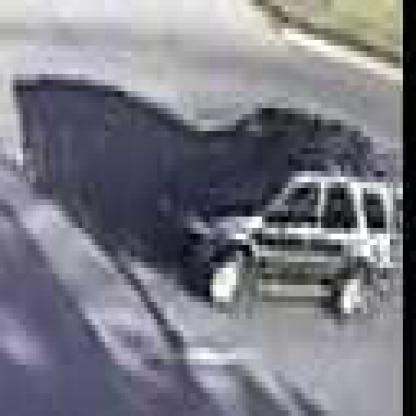car: (155, 115, 401, 320)
